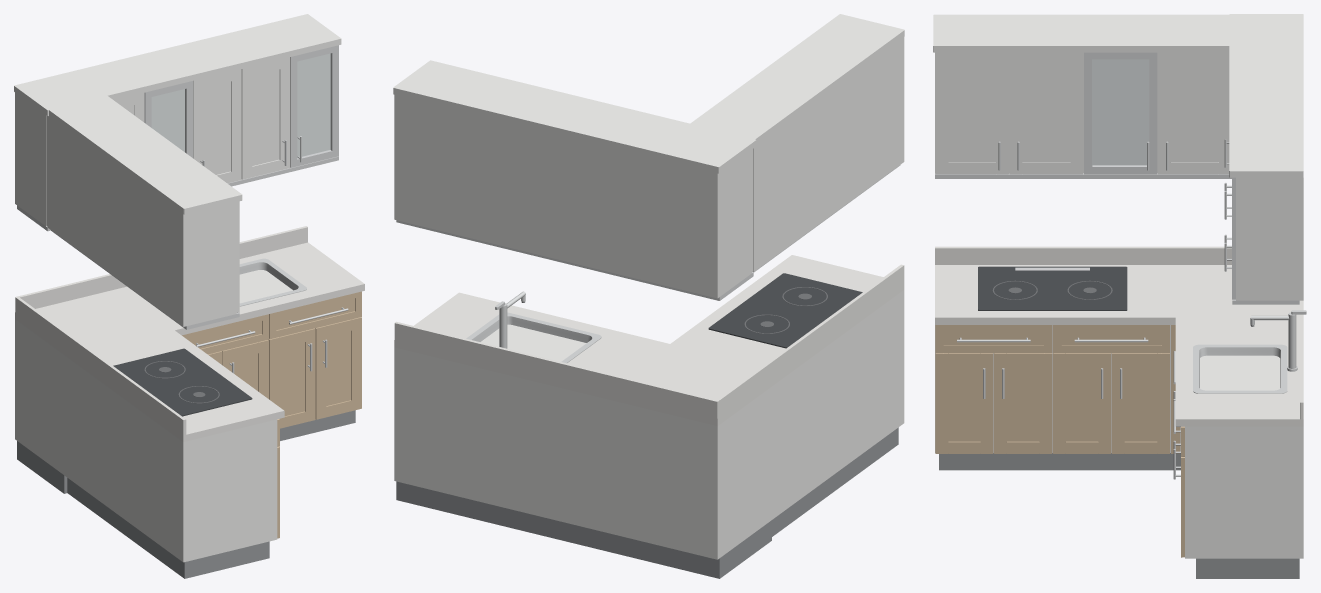
3 views of the same model, side by side, from view 1: azimuth 30°, elevation 25°; view 2: azimuth 150°, elevation 25°; view 3: azimuth 270°, elevation 25° (orthographic). The views are drawn at different scales.
Visible parts, largest first — view 1: Tủ bếp chữ L Dài cạnh chính=1800; Dài cạnh phụ=1800; Sâu tủ ; view 2: Tủ bếp chữ L Dài cạnh chính=1800; Dài cạnh phụ=1800; Sâu tủ ; view 3: Tủ bếp chữ L Dài cạnh chính=1800; Dài cạnh phụ=1800; Sâu tủ .
Part boxes in pixels (x1,y1,x2,y2): Tủ bếp chữ L Dài cạnh chính=1800; Dài cạnh phụ=1800; Sâu tủ : [14, 14, 364, 578]; Tủ bếp chữ L Dài cạnh chính=1800; Dài cạnh phụ=1800; Sâu tủ : [393, 14, 904, 578]; Tủ bếp chữ L Dài cạnh chính=1800; Dài cạnh phụ=1800; Sâu tủ : [933, 14, 1306, 578].
Bounding box in the file's own units: 1.82 × 2.2 × 1.82.
